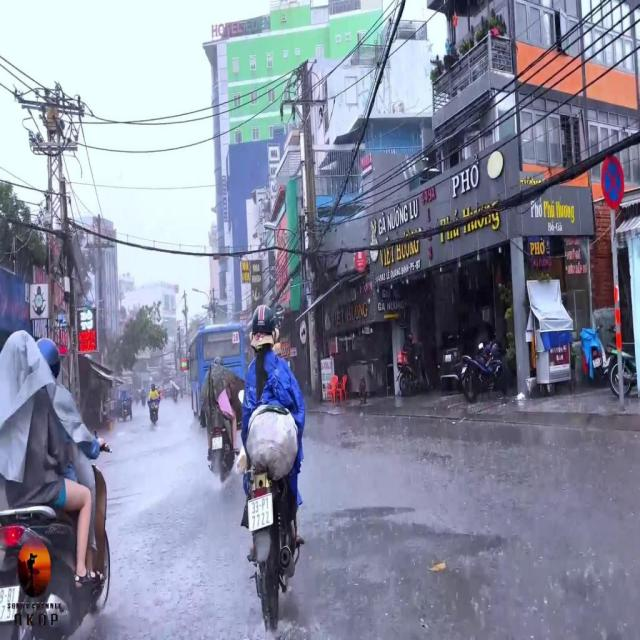cam_dung_xe_va_do_xe: (600, 154, 625, 209)
